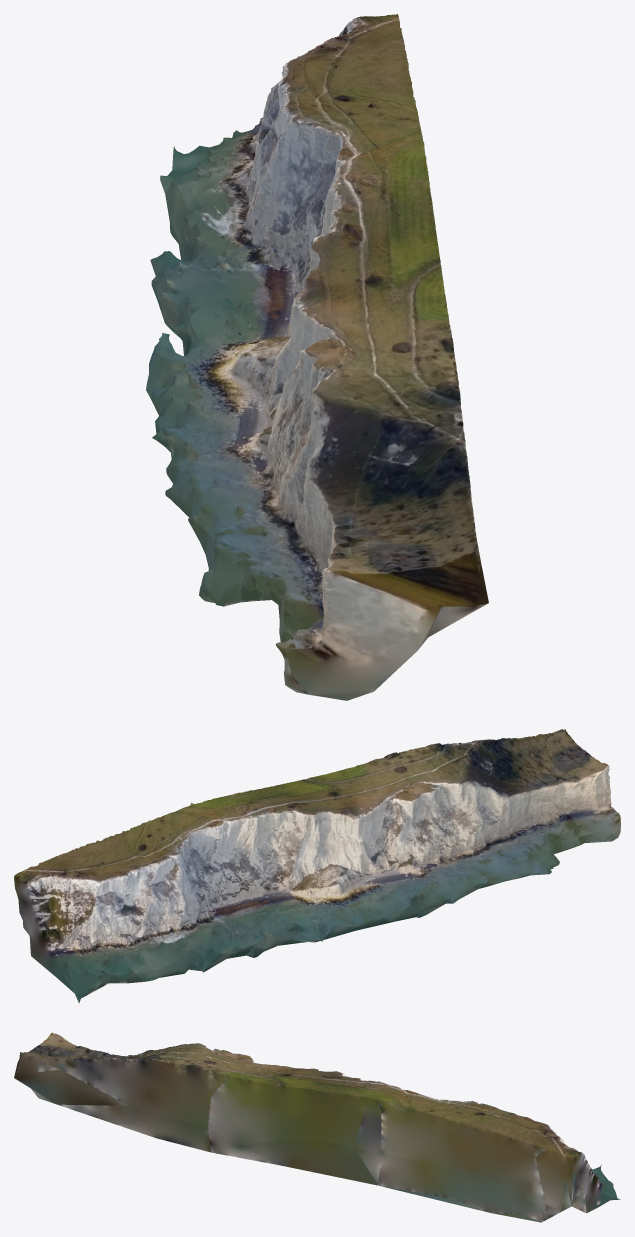
Rendered from sf-white-cliffs-of-dover-6ecad9.glb.
3 views of the same model, one above another, from view 1: azimuth 30°, elevation 25°; view 2: azimuth 150°, elevation 25°; view 3: azimuth 270°, elevation 25° (orthographic). The views are drawn at different scales.
Parts seen in each view (by area): view 1: meshNode_Material_u1_v1_0; view 2: meshNode_Material_u1_v1_0; view 3: meshNode_Material_u1_v1_0.
Boxes of the visible parts, x1=… form: meshNode_Material_u1_v1_0: x1=146, y1=14, x2=488, y2=700; meshNode_Material_u1_v1_0: x1=14, y1=729, x2=620, y2=1003; meshNode_Material_u1_v1_0: x1=14, y1=1032, x2=620, y2=1222.
Size of the model in its own units: 22.38 by 7.18 by 37.77.
Materials: 1 (1 with a texture image).
